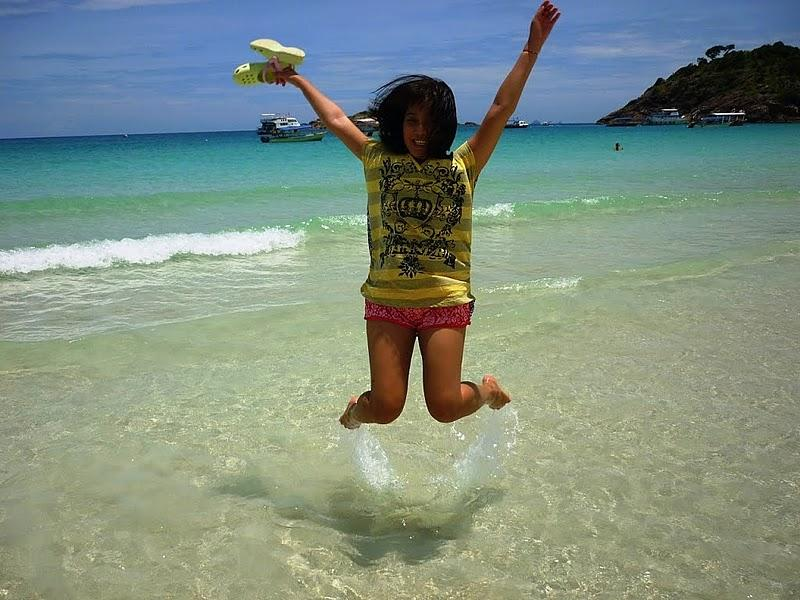person: (254, 3, 560, 426)
